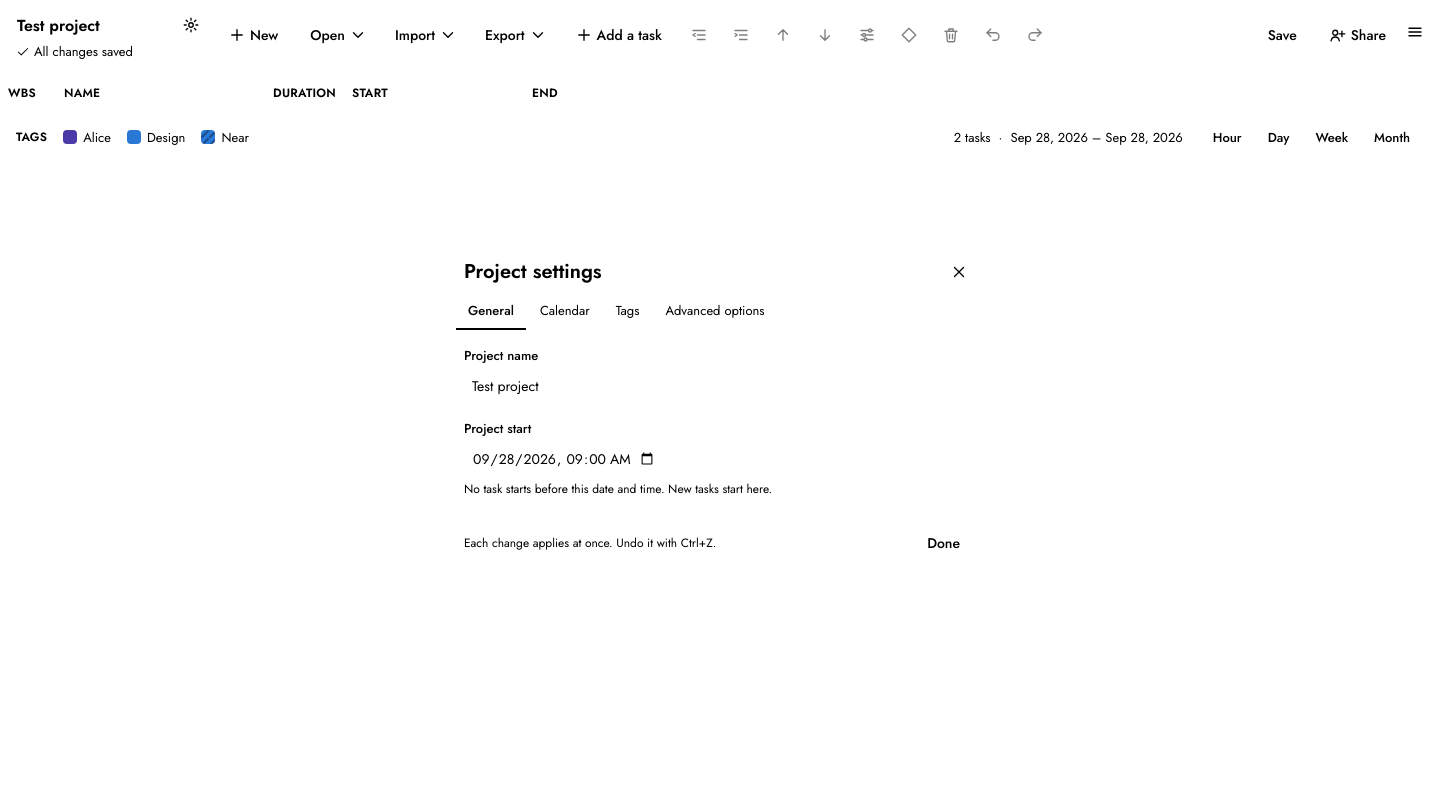
Test: the Tags tab › lists the tags by name, with their color, pattern and kind
The image size is (1440, 810).
Click the tab "Tags" at (628,311), box [604,292,651,330]
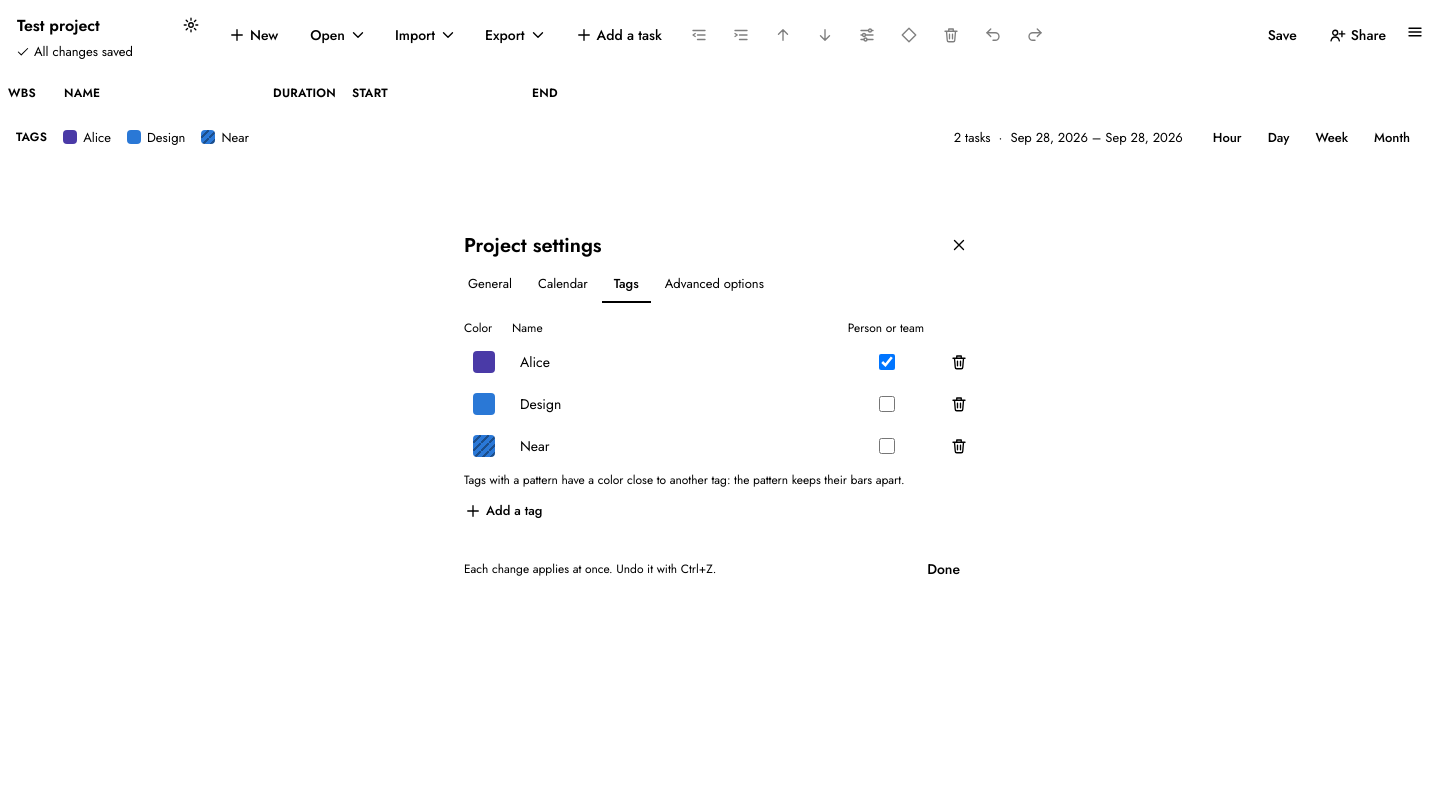
expect the text with class "hint" shows "Tags with a pattern have a color close to another tag: the pattern keeps their bars apart.": met, box [464,471,905,489]
